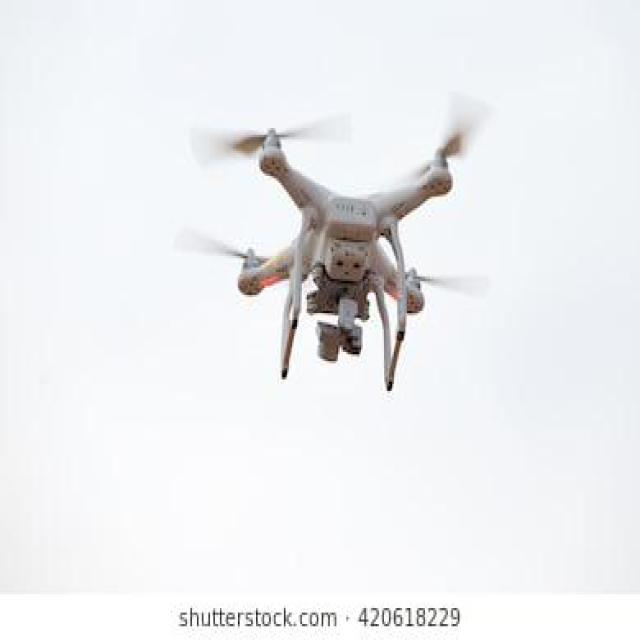drone: (161, 66, 533, 406)
